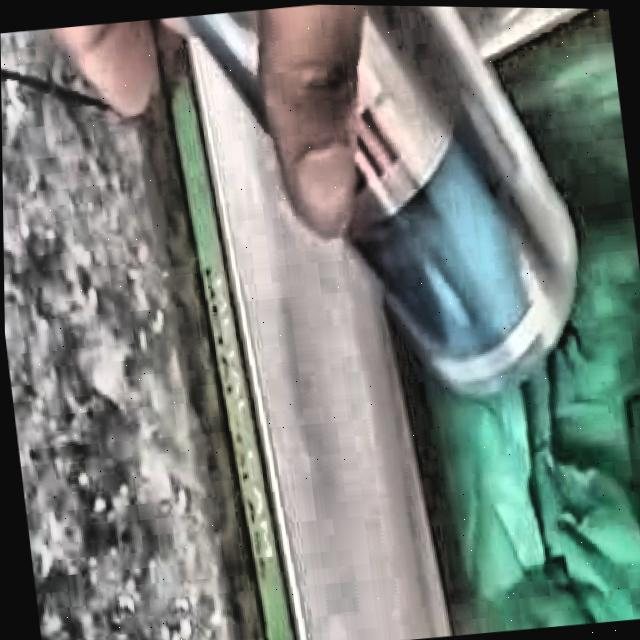metal: (350, 4, 575, 390)
